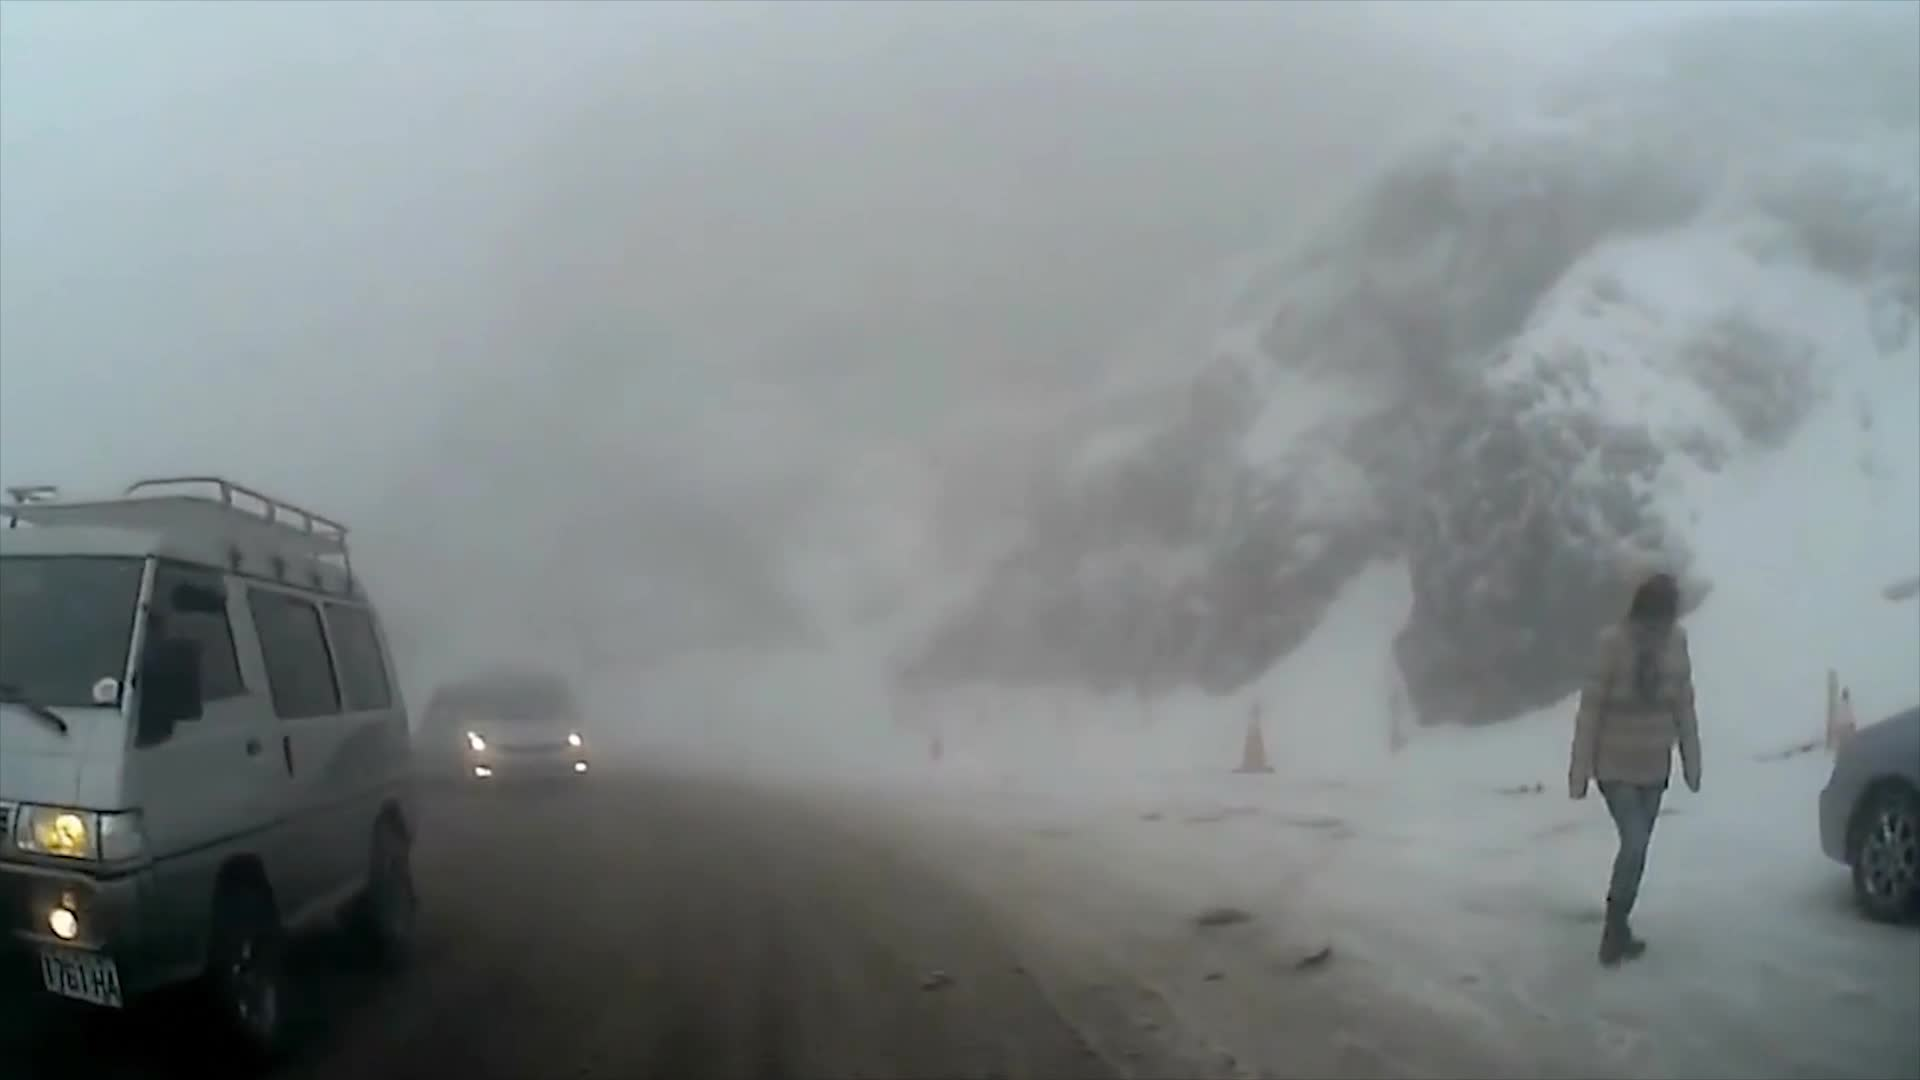pedestrian: (1562, 551, 1699, 963)
vehicle: (0, 477, 425, 1080), (1817, 704, 1919, 924), (424, 671, 596, 796)
